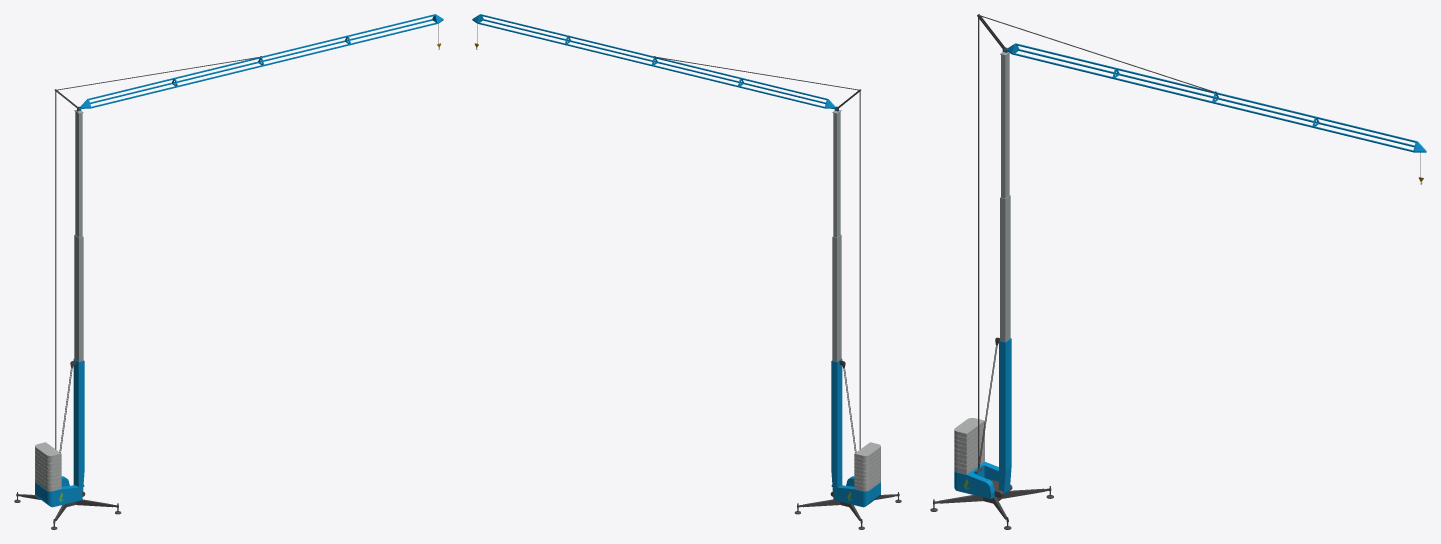
File: H-TDK-UD-20m_dae.dae
3 views of the same model, side by side, from view 1: azimuth 30°, elevation 25°; view 2: azimuth 150°, elevation 25°; view 3: azimuth 330°, elevation 25° (orthographic). The views are drawn at different scales.
Parts seen in each view (by area): view 1: 2fl92Gvkb1ZgrKn5jgXywz; view 2: 2fl92Gvkb1ZgrKn5jgXywz; view 3: 2fl92Gvkb1ZgrKn5jgXywz.
Boxes of the visible parts, x1,y1,x2,y2 form: 2fl92Gvkb1ZgrKn5jgXywz: [14, 14, 443, 529]; 2fl92Gvkb1ZgrKn5jgXywz: [472, 14, 901, 529]; 2fl92Gvkb1ZgrKn5jgXywz: [930, 14, 1426, 529].
Size of the model in its own units: 22.52 by 3.8 by 22.07.
